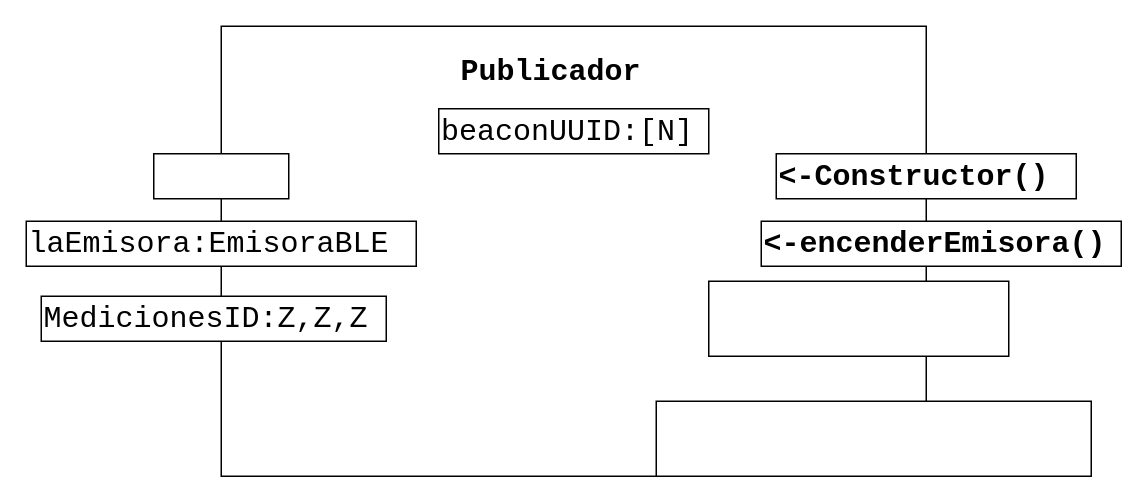
This 1148x503 diagram has some shape labels left out. The shapes that lost their labels are listed below. From the top down, each one's centre as x and y in pixels, then its label:
pixel 220 175: RSSI:Z
pixel 858 318: Z,N,Z <-publicarCO2()
pixel 873 438: <-Z,N,Z <-publicarTemperatura()
